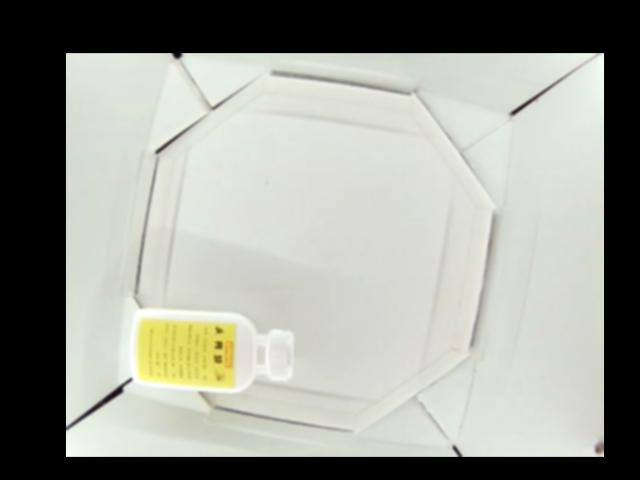Bottle: (129, 309, 295, 392)
